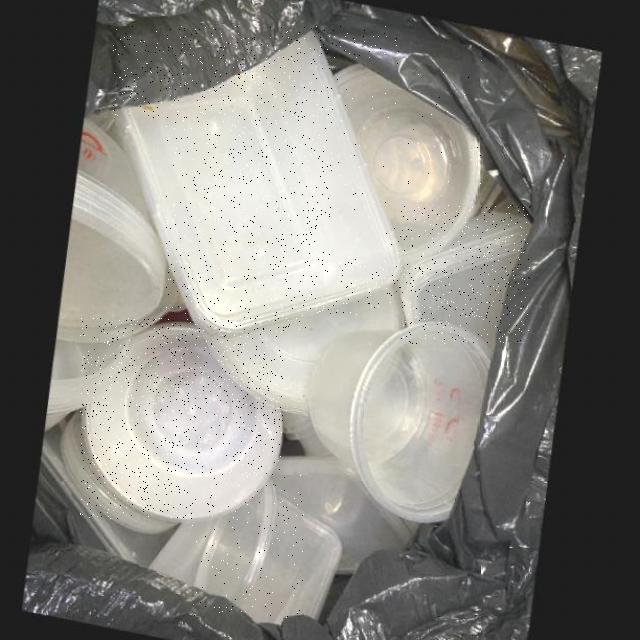plastic: (113, 26, 402, 334), (80, 319, 283, 519), (309, 315, 492, 517), (333, 59, 482, 259), (57, 119, 166, 325), (400, 205, 531, 344), (193, 476, 304, 619)
